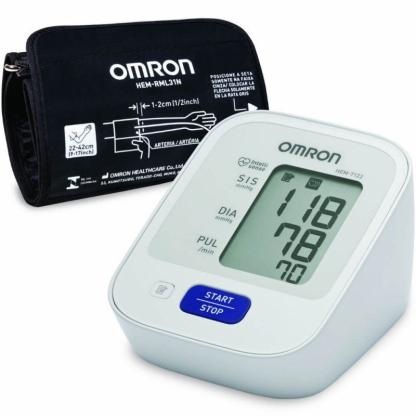Displays: (215, 164, 365, 286)
